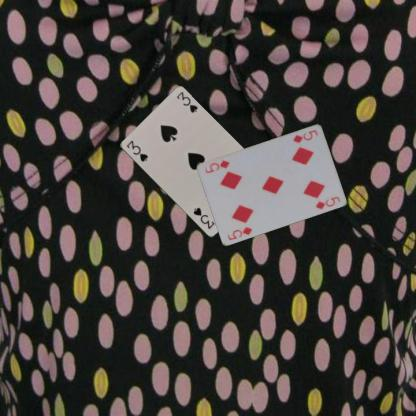3s: (124, 138, 149, 163)
5d: (224, 224, 254, 241), (291, 127, 319, 144)
